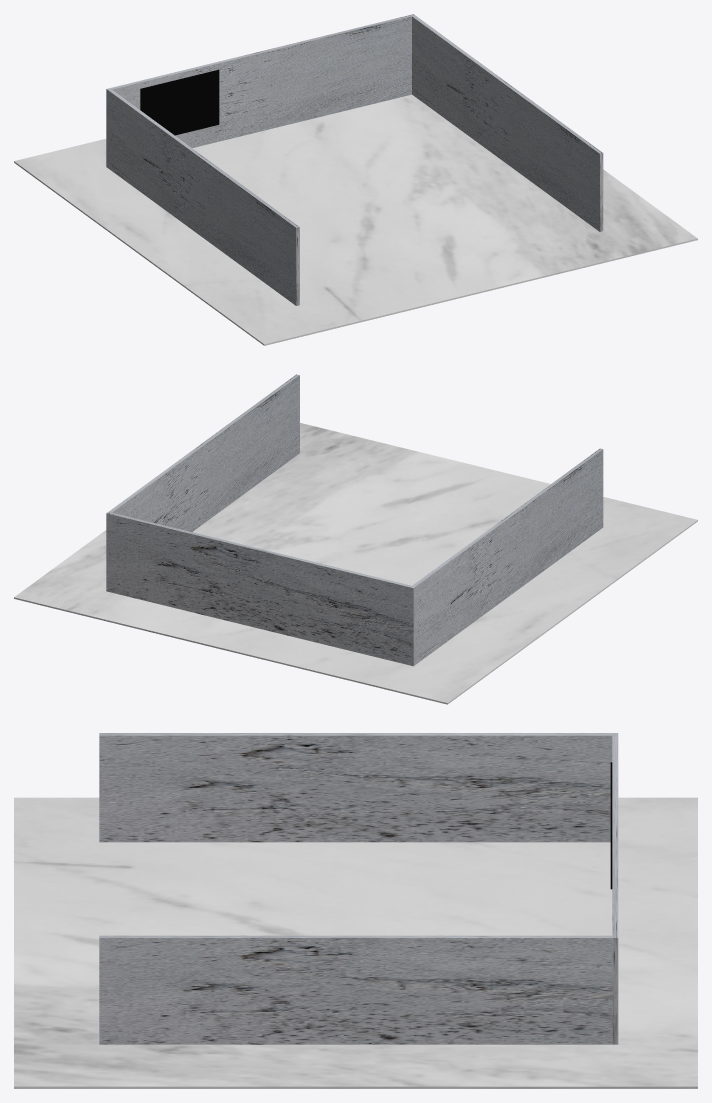
The model's file is wallsAndFloor5_Nov18.glb.
3 renders of one model, top to bottom at view 1: azimuth 30°, elevation 25°; view 2: azimuth 150°, elevation 25°; view 3: azimuth 270°, elevation 25°, orthographic. The views are drawn at different scales.
Visible parts, largest first — view 1: Floor, FrontWall, LeftWall, RightWall, whiteboard; view 2: Floor, FrontWall, LeftWall, RightWall; view 3: Floor, RightWall, LeftWall, FrontWall.
Part boxes in pixels (x1,y1,x2,y2): Floor: (14,94,697,345); FrontWall: (106,14,415,168); LeftWall: (108,89,299,305); RightWall: (412,15,603,231); whiteboard: (140,69,219,135); Floor: (14,423,697,704); FrontWall: (106,512,415,666); LeftWall: (412,448,603,664); RightWall: (109,374,299,531); Floor: (14,797,697,1088); RightWall: (99,935,612,1044); LeftWall: (99,733,612,842); FrontWall: (612,733,618,1044).
Bounding box in the file's own units: 60 × 10.53 × 60.
5 materials, 4 textured.
